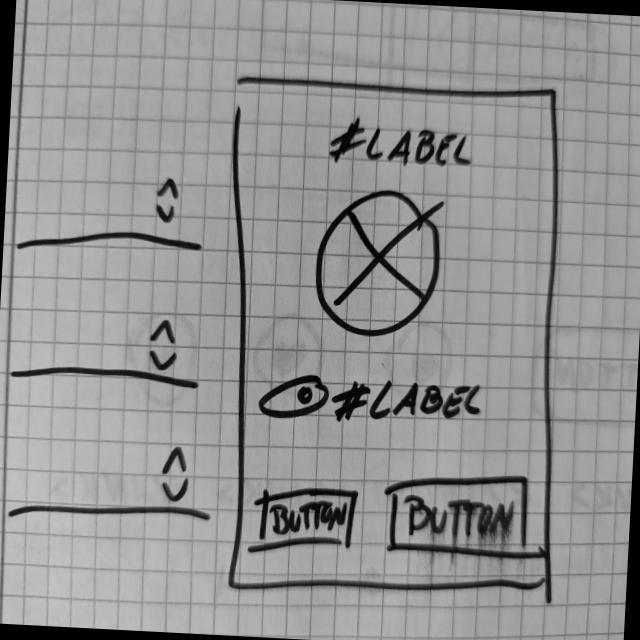button: (387, 467, 535, 563), (254, 482, 361, 557)
container: (204, 72, 578, 611)
image: (311, 185, 448, 345)
label: (331, 375, 494, 434), (325, 115, 480, 174)
number-input: (5, 436, 219, 536), (13, 168, 210, 265), (8, 309, 207, 397)
toggle: (257, 372, 332, 425)
